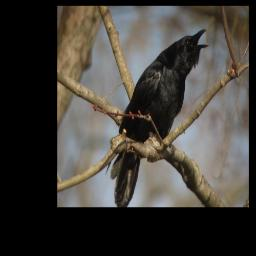Crow: (109, 25, 211, 207)
